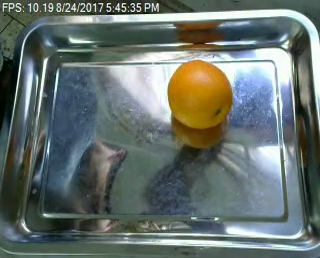Orange: (167, 58, 234, 129)
